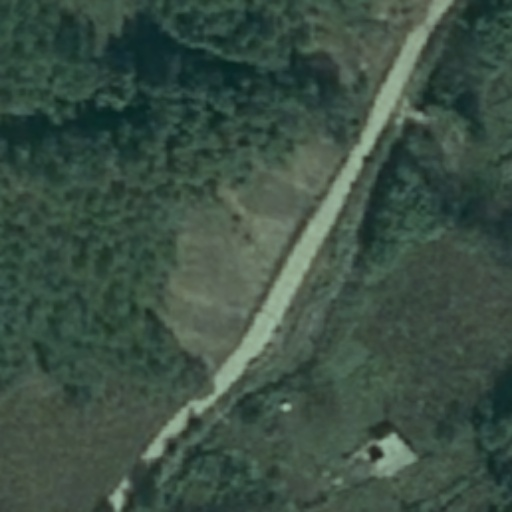landslide: (164, 138, 350, 351)
